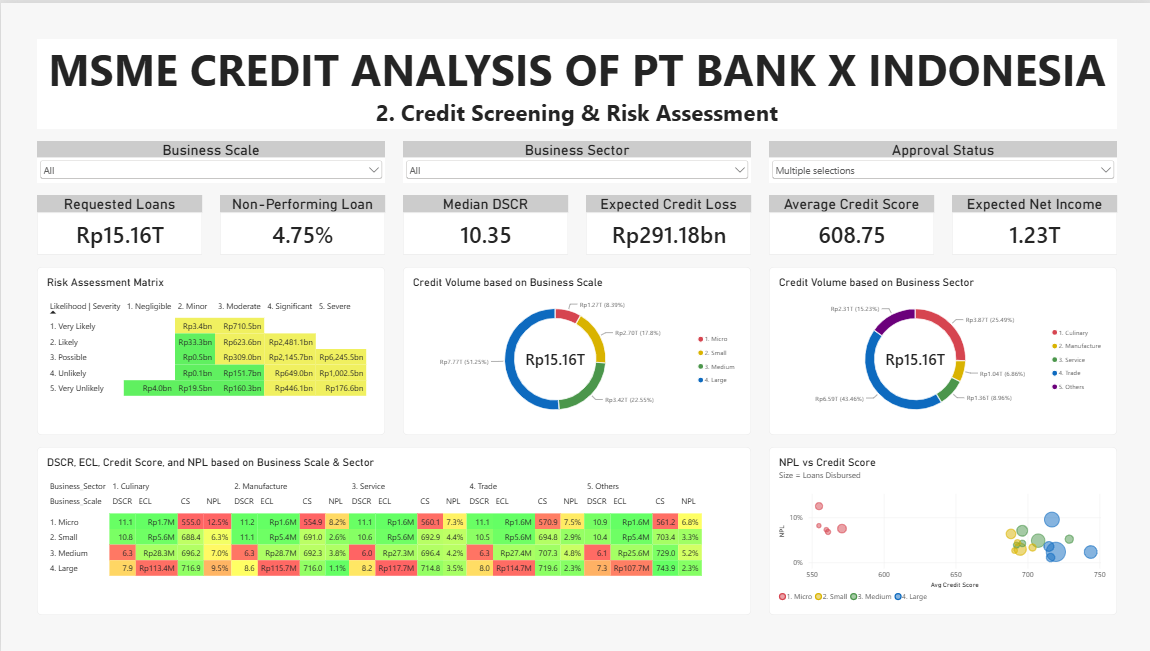

The page's visual inventory and layout, read from the dashboard file:
{"tool":"powerbi","page":{"name":"Page 2","canvas":[1920,1080],"ordinal":1},"visuals":[{"type":"textbox","box":[60,60,1800,150],"z":0},{"type":"slicer","title":"Business Scale","fields":{"Values":["MSME_credit_data_analyzed.Business_Scale"]},"box":[60,230,580,70],"z":1000},{"type":"slicer","title":"Business Sector","fields":{"Values":["MSME_credit_data_analyzed.Business_Sector"]},"box":[670,230,580,70],"z":2000},{"type":"cardVisual","title":"Requested Loans","fields":{"Data":["Sum(msme_credit_analysis new_msme_credit_joined.Loan_Ceiling)"]},"box":[60,320,275,100],"z":4000},{"type":"cardVisual","title":"Expected Credit Loss","fields":{"Data":["Sum(msme_credit_analysis new_msme_credit_joined.Expected_Credit_Loss)"]},"box":[974.4,320.3,275,100],"z":5000},{"type":"cardVisual","title":"Average Credit Score","fields":{"Data":["Avg(msme_credit_analysis new_msme_credit_joined.Credit_Score)"]},"box":[1281,320.3,275,100],"z":6000},{"type":"cardVisual","title":"Median DSCR","fields":{"Data":["Median(msme_credit_analysis new_msme_credit_joined.Debt_Service_Coverage_Ratio)"]},"box":[670,320.3,275,100],"z":7000},{"type":"pivotTable","title":"Risk Assessment Matrix","fields":{"Columns":["msme_credit_analysis new_msme_credit_joined.Severity"],"Rows":["msme_credit_analysis new_msme_credit_joined.Likelihood"],"Values":["Sum(msme_credit_analysis new_msme_credit_joined.Loan_Ceiling)"]},"box":[60,440,580,280],"z":8000},{"type":"cardVisual","title":"Non-Performing Loan","fields":{"Data":["msme_credit_analysis new_msme_credit_joined.NPL_new"]},"box":[365,320,275,100],"z":9000},{"type":"scatterChart","title":"NPL vs Credit Score","fields":{"Category":["msme_credit_analysis new_msme_credit_joined.Business_Sector"],"Series":["msme_credit_analysis new_msme_credit_joined.Business_Scale"],"Size":["Sum(msme_credit_analysis new_msme_credit_joined.Loan_Ceiling)"],"X":["Avg(msme_credit_analysis new_msme_credit_joined.Credit_Score)"],"Y":["msme_credit_analysis new_msme_credit_joined.NPL_new"]},"box":[1280,740,580,280],"z":10000},{"type":"cardVisual","title":"Expected Net Income","fields":{"Data":["msme_credit_analysis new_msme_credit_joined.ENI"]},"box":[1585,320,275,100],"z":11000},{"type":"pivotTable","title":"DSCR, ECL, Credit Score, and NPL based on Business Scale & Sector","fields":{"Columns":["msme_credit_analysis new_msme_credit_joined.Business_Sector"],"Rows":["msme_credit_analysis new_msme_credit_joined.Business_Scale"],"Values":["Median(msme_credit_analysis new_msme_credit_joined.Debt_Service_Coverage_Ratio)","Avg(msme_credit_analysis new_msme_credit_joined.Expected_Credit_Loss)","Avg(msme_credit_analysis new_msme_credit_joined.Credit_Score)","msme_credit_analysis new_msme_credit_joined.NPL_new"]},"box":[60,740,1190,280],"z":12000},{"type":"donutChart","title":"Credit Volume based on Business Scale","fields":{"Category":["msme_credit_analysis new_msme_credit_joined.Business_Scale"],"Y":["Sum(msme_credit_analysis new_msme_credit_joined.Loan_Ceiling)"]},"box":[670,440,580,280],"z":13000},{"type":"donutChart","title":"Credit Volume based on Business Sector","fields":{"Category":["msme_credit_analysis new_msme_credit_joined.Business_Sector"],"Y":["Sum(msme_credit_analysis new_msme_credit_joined.Loan_Ceiling)"]},"box":[1280,440,580,280],"z":14000},{"type":"slicer","title":"Approval Status","fields":{"Values":["msme_credit_analysis new_msme_credit_joined.Approval_Status"]},"box":[1280,230,580,70],"z":15000}]}

Visuals, with their boxes in screenshot pixels (x1, y1, x2, y2), scaled from the page's 1920x1080 canvas onto the 1150x651 screenshot:
textbox: [x1=36, y1=36, x2=1114, y2=127]
"Business Scale" slicer: [x1=36, y1=139, x2=383, y2=181]
"Business Sector" slicer: [x1=401, y1=139, x2=749, y2=181]
"Requested Loans" cardVisual: [x1=36, y1=193, x2=201, y2=253]
"Expected Credit Loss" cardVisual: [x1=584, y1=193, x2=748, y2=253]
"Average Credit Score" cardVisual: [x1=767, y1=193, x2=932, y2=253]
"Median DSCR" cardVisual: [x1=401, y1=193, x2=566, y2=253]
"Risk Assessment Matrix" pivotTable: [x1=36, y1=265, x2=383, y2=434]
"Non-Performing Loan" cardVisual: [x1=219, y1=193, x2=383, y2=253]
"NPL vs Credit Score" scatterChart: [x1=767, y1=446, x2=1114, y2=615]
"Expected Net Income" cardVisual: [x1=949, y1=193, x2=1114, y2=253]
"DSCR, ECL, Credit Score, and NPL based on Business Scale & Sector" pivotTable: [x1=36, y1=446, x2=749, y2=615]
"Credit Volume based on Business Scale" donutChart: [x1=401, y1=265, x2=749, y2=434]
"Credit Volume based on Business Sector" donutChart: [x1=767, y1=265, x2=1114, y2=434]
"Approval Status" slicer: [x1=767, y1=139, x2=1114, y2=181]
